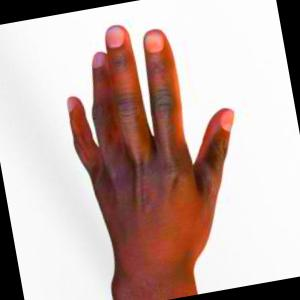paper: (67, 25, 234, 300)
